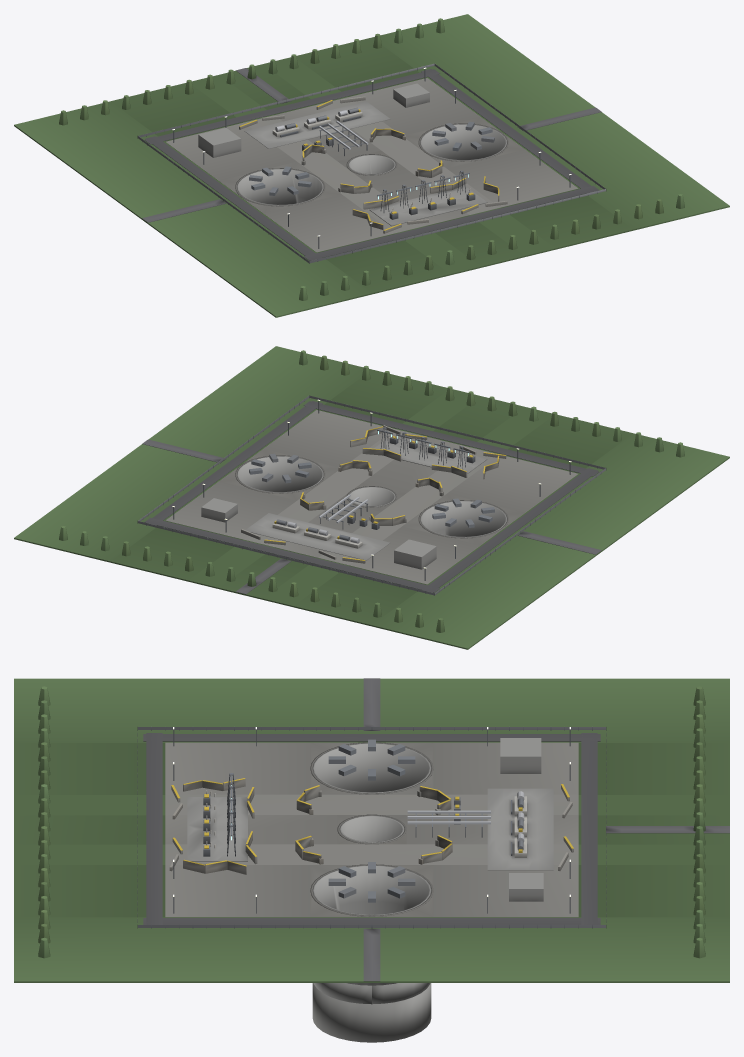
Rendered from 01_site.glb.
The picture shows the model from 3 angles, top to bottom: view 1: azimuth 30°, elevation 25°; view 2: azimuth 150°, elevation 25°; view 3: azimuth 270°, elevation 25°; orthographic projection. The views are drawn at different scales.
Parts seen in each view (by area): view 1: site_groundgrass, site_groundapron, site_concretedark, site_asphalt, site_grass, site_steeldark, site_steel_nocol, site_blastwall, site_concrete, site_warning_nocol, site_steel; view 2: site_groundgrass, site_groundapron, site_concretedark, site_asphalt, site_grass, site_steeldark, site_steel_nocol, site_blastwall, site_concrete, site_warning_nocol, site_steel; view 3: site_groundgrass, site_groundapron, site_concretedark, site_asphalt, site_grass, site_steeldark, site_blastwall, site_steel_nocol, site_concrete, site_steel, site_warning_nocol.
Boxes of the visible parts, box(x1,y1,x2,y2) form: site_groundgrass: box(14, 14, 729, 317); site_groundapron: box(165, 78, 578, 252); site_concretedark: box(198, 83, 506, 226); site_asphalt: box(142, 68, 601, 260); site_grass: box(59, 18, 684, 300); site_steeldark: box(137, 65, 606, 263); site_steel_nocol: box(138, 63, 605, 263); site_blastwall: box(239, 96, 507, 233); site_concrete: box(235, 123, 508, 206); site_warning_nocol: box(239, 100, 499, 230); site_steel: box(275, 110, 368, 149); site_groundgrass: box(14, 346, 729, 649); site_groundapron: box(165, 410, 578, 584); site_concretedark: box(201, 436, 506, 569); site_asphalt: box(142, 401, 601, 594); site_grass: box(59, 350, 684, 632); site_steeldark: box(137, 397, 606, 595); site_steel_nocol: box(138, 395, 605, 595); site_blastwall: box(241, 425, 506, 563); site_concrete: box(235, 455, 508, 538); site_warning_nocol: box(264, 426, 505, 560); site_steel: box(287, 494, 368, 543); site_groundgrass: box(14, 678, 729, 982); site_groundapron: box(165, 742, 578, 917); site_concretedark: box(187, 738, 553, 1042); site_asphalt: box(143, 678, 729, 981); site_grass: box(38, 686, 705, 958); site_steeldark: box(137, 726, 606, 928); site_blastwall: box(169, 779, 573, 874); site_steel_nocol: box(138, 727, 605, 927); site_concrete: box(310, 742, 433, 916); site_steel: box(407, 791, 524, 842); site_warning_nocol: box(171, 778, 573, 866).
Bounding box in the file's own units: 520 × 126 × 520.
